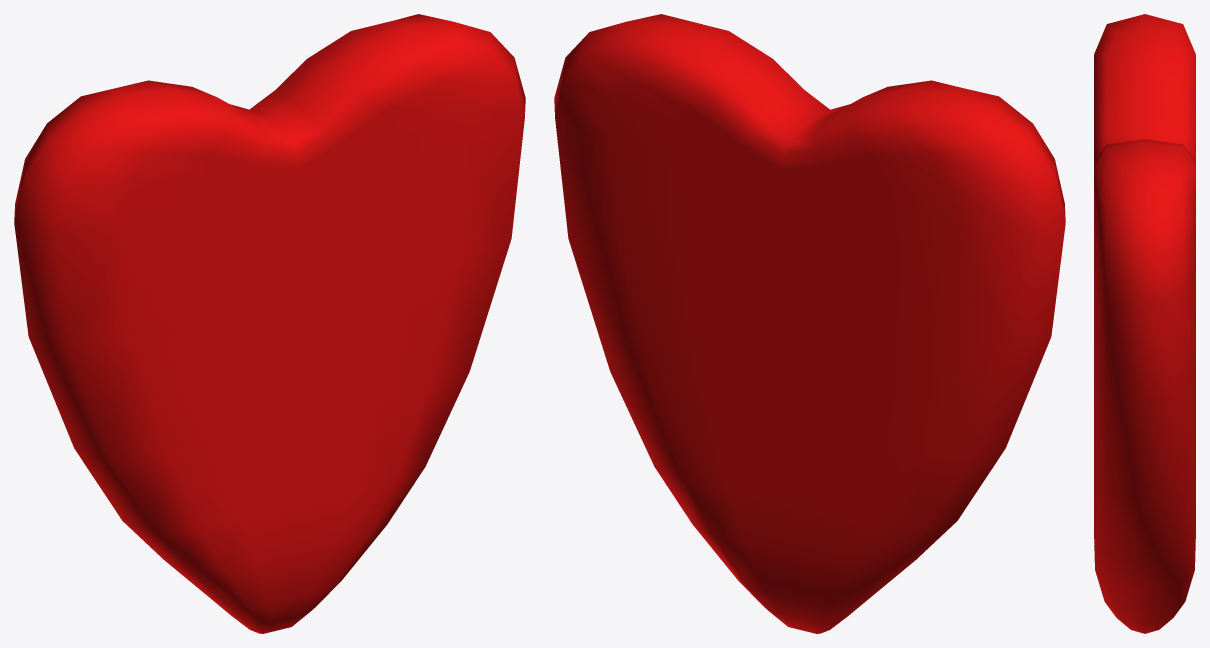
Rendered from Heart Pickup.FBX.
The picture shows the model from 3 angles, left to right: view 1: azimuth 30°, elevation 25°; view 2: azimuth 150°, elevation 25°; view 3: azimuth 270°, elevation 25°; orthographic projection. The views are drawn at different scales.
Visible parts, largest first — view 1: Box001; view 2: Box001; view 3: Box001.
Boxes of the visible parts, left/top/right/bottom form: Box001: left=14, top=14, right=525, bottom=633; Box001: left=554, top=14, right=1065, bottom=633; Box001: left=1094, top=14, right=1195, bottom=633.
Size of the model in its own units: 54.56 by 58.19 by 10.
